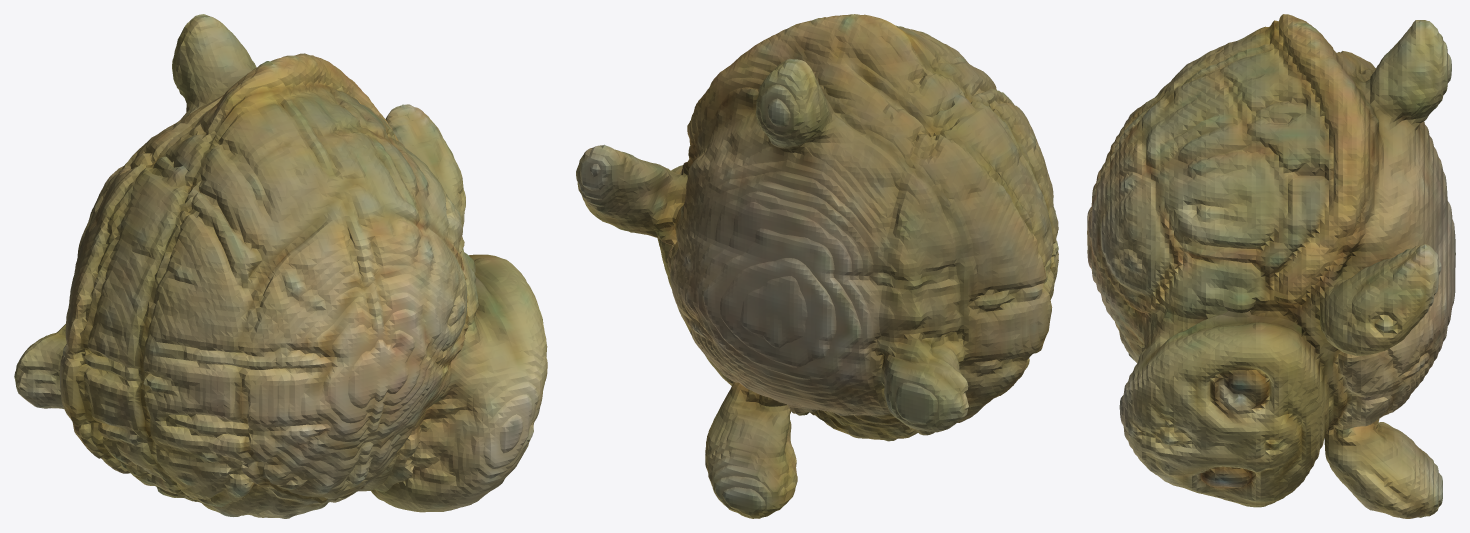
File: pet_turtle.glb
3 renders of one model, left to right at view 1: azimuth 30°, elevation 25°; view 2: azimuth 150°, elevation 25°; view 3: azimuth 270°, elevation 25°, orthographic. The views are drawn at different scales.
Visible parts, largest first — view 1: geometry_0; view 2: geometry_0; view 3: geometry_0.
Part boxes in pixels (x1=…): geometry_0: x1=14, y1=14, x2=547, y2=518; geometry_0: x1=576, y1=14, x2=1058, y2=518; geometry_0: x1=1087, y1=14, x2=1455, y2=518.
Size of the model in its own units: 0.7251 by 0.7717 by 0.5509.
